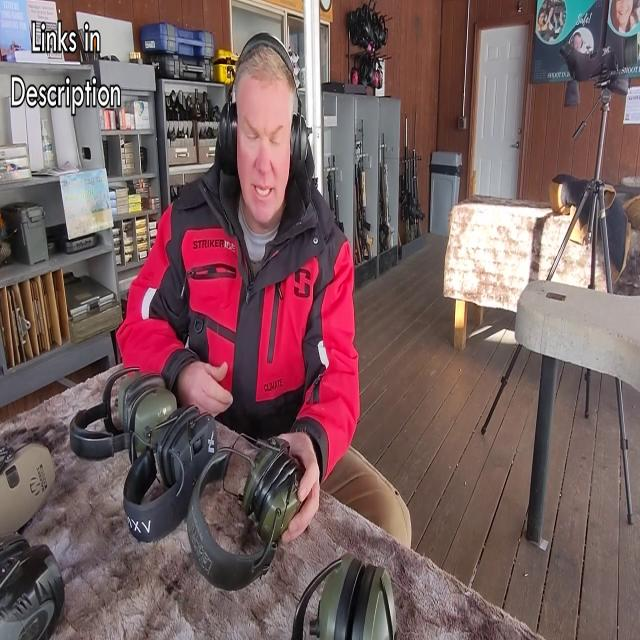earmuff: (214, 97, 240, 184), (287, 108, 314, 182)
